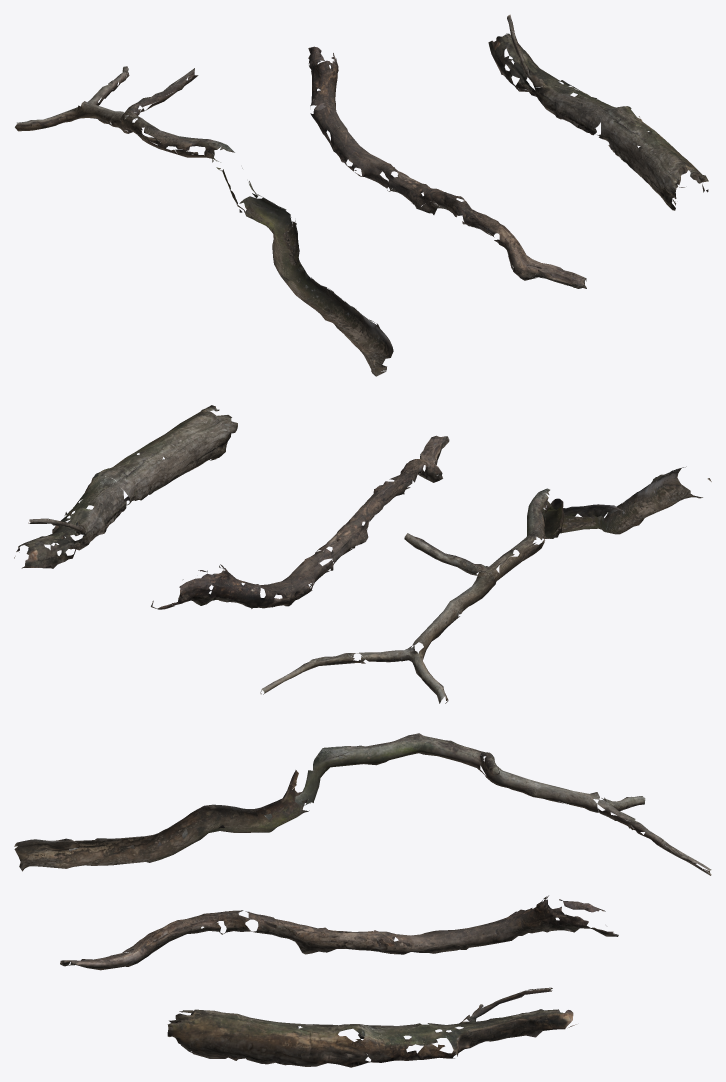
The model's file is ph_dry_branches_medium_01.glb.
The picture shows the model from 3 angles, top to bottom: view 1: azimuth 30°, elevation 25°; view 2: azimuth 150°, elevation 25°; view 3: azimuth 270°, elevation 25°; orthographic projection. The views are drawn at different scales.
Visible parts, largest first — view 1: Hero; view 2: Hero; view 3: Hero.
Boxes of the visible parts, x1=… form: Hero: x1=15, y1=14, x2=708, y2=376; Hero: x1=14, y1=405, x2=711, y2=703; Hero: x1=14, y1=733, x2=711, y2=1067.
Size of the model in its own units: 0.8153 by 0.2 by 0.9979.
Materials: 1 (1 with a texture image).
